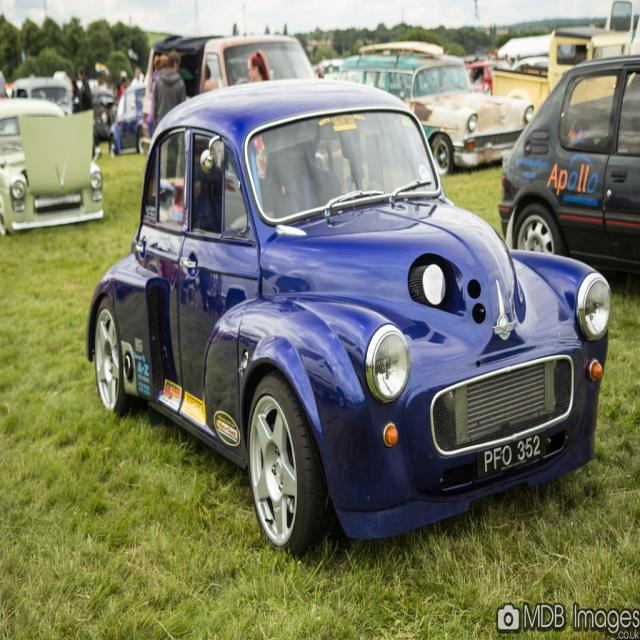car: (82, 76, 612, 557)
